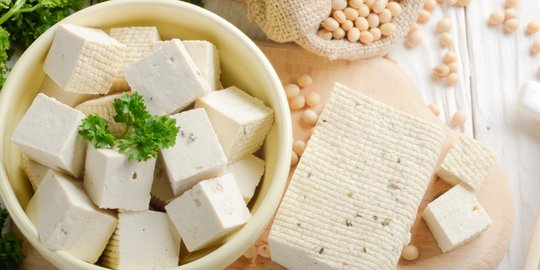Tahu: (12, 171, 109, 256), (155, 174, 249, 252), (145, 106, 225, 193), (113, 44, 201, 122), (41, 21, 117, 111), (15, 106, 89, 161)
